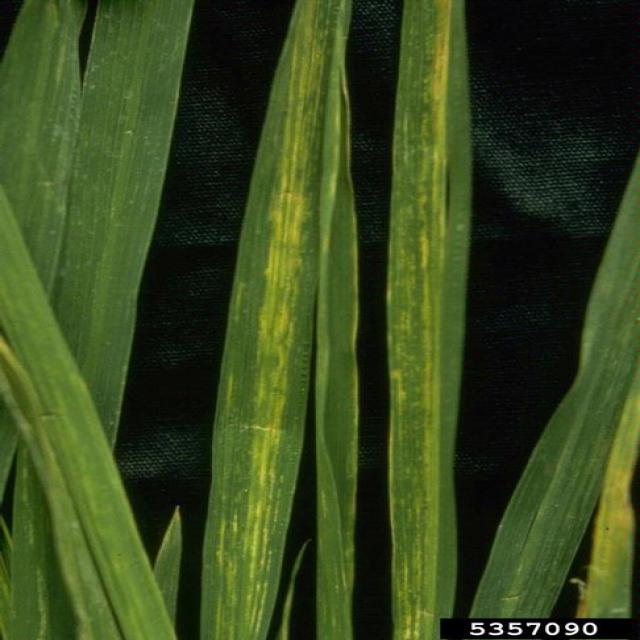Bacterial leaf blight: (210, 0, 345, 640), (389, 7, 461, 640), (589, 386, 640, 614), (0, 329, 40, 382)
